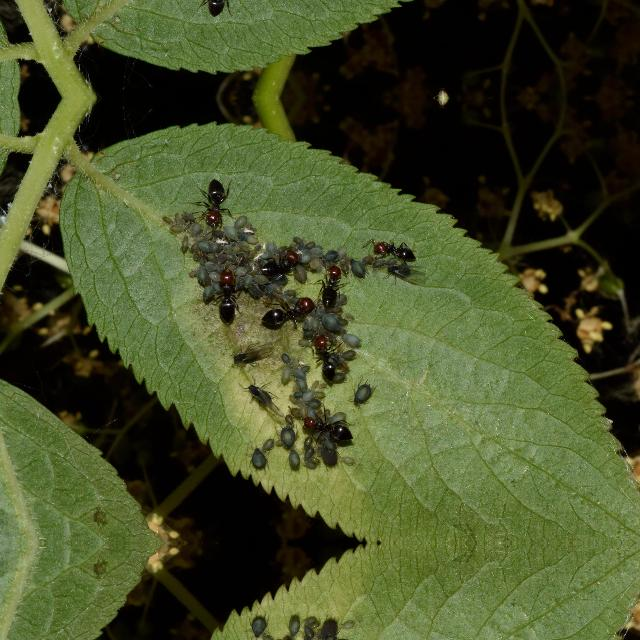Crematogaster: (294, 406, 356, 444), (257, 288, 311, 329), (208, 265, 242, 329), (197, 178, 230, 230), (254, 248, 304, 282), (306, 331, 338, 383), (372, 234, 418, 264), (320, 258, 344, 312), (196, 0, 229, 16)
